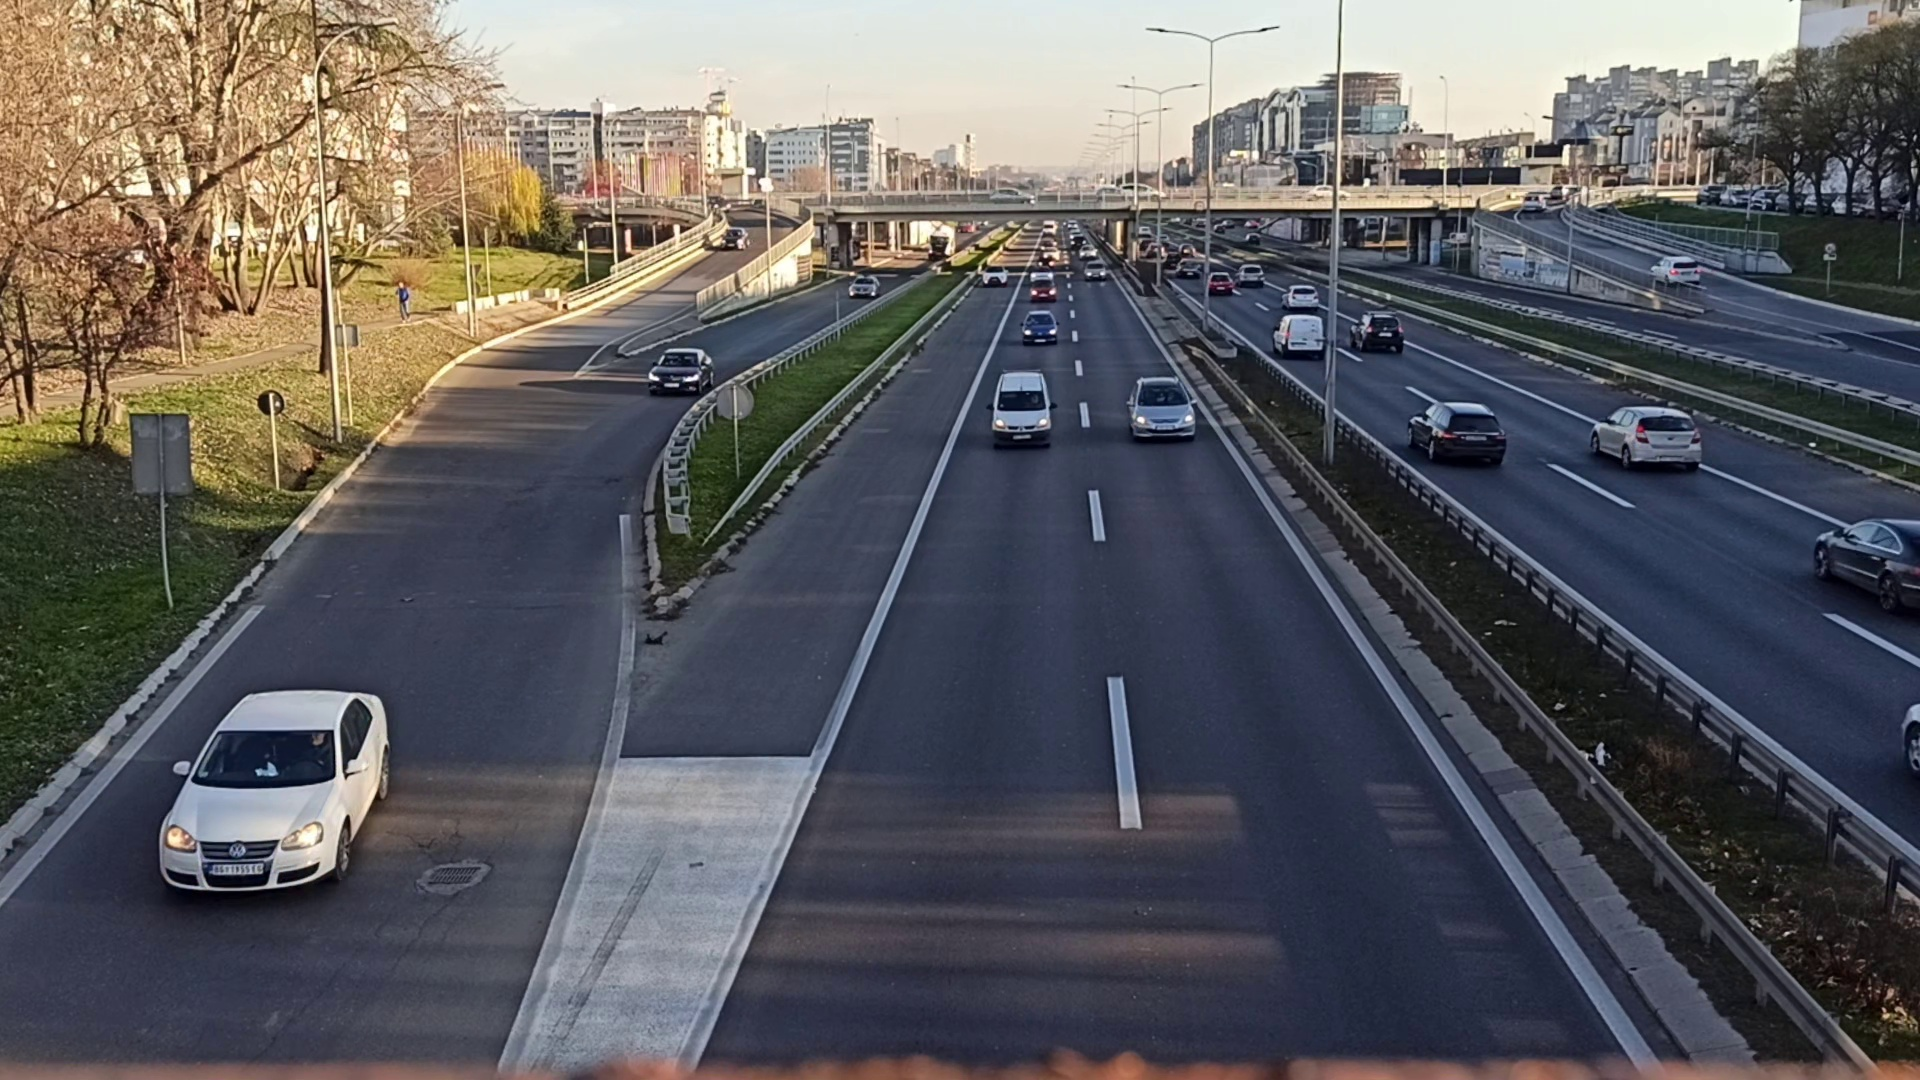car: (158, 690, 396, 895), (1815, 510, 1920, 605), (1592, 404, 1701, 479), (1407, 404, 1507, 464), (1125, 371, 1199, 438), (650, 347, 715, 394), (1346, 313, 1404, 355), (1021, 313, 1059, 345), (1280, 284, 1320, 310), (1027, 269, 1055, 301), (1085, 262, 1105, 280)
van: (992, 371, 1054, 450), (1274, 316, 1325, 357)
